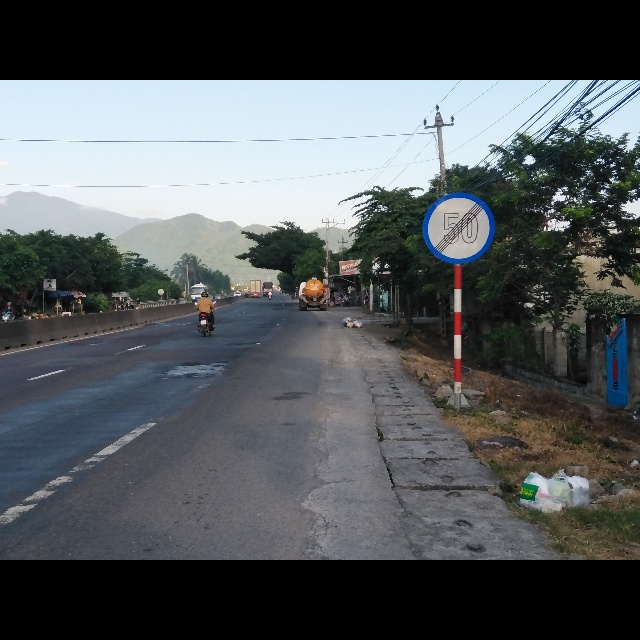Hết hạn chế tốc độ tối đa 50km/h: (422, 193, 496, 264)
